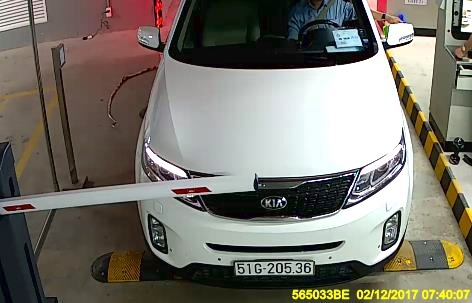plate: (232, 257, 317, 281)
